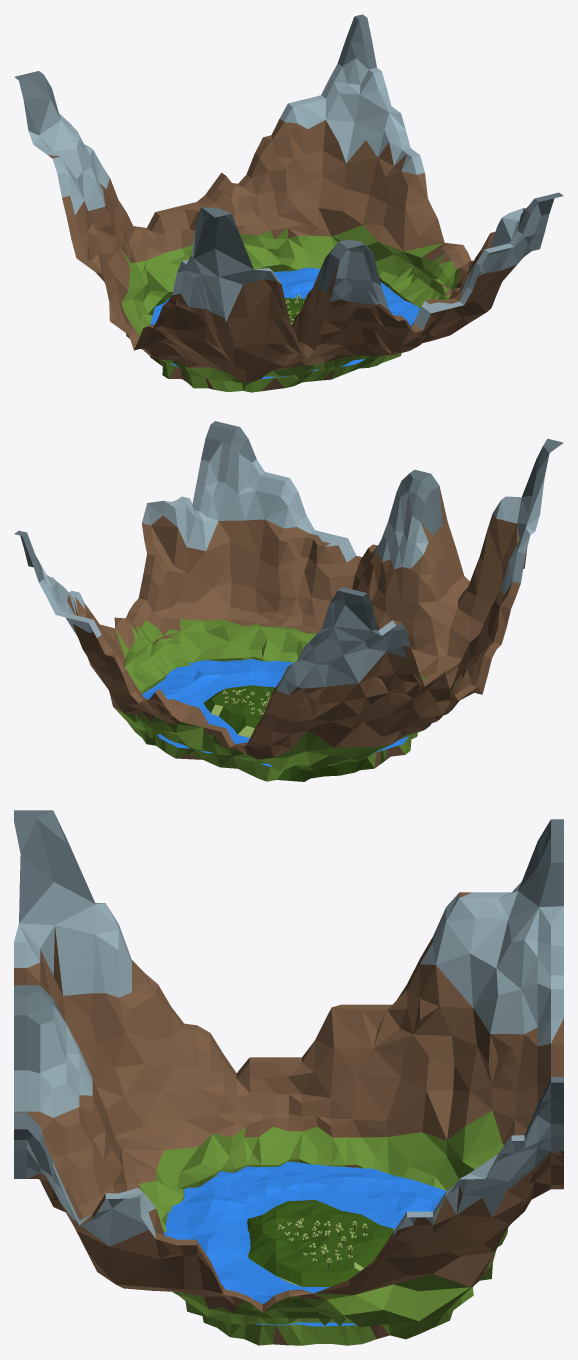
The model's file is HILL2.glb.
The picture shows the model from 3 angles, top to bottom: view 1: azimuth 30°, elevation 25°; view 2: azimuth 150°, elevation 25°; view 3: azimuth 270°, elevation 25°; orthographic projection. The views are drawn at different scales.
Parts seen in each view (by area): view 1: Plane_0, Plane.001_1; view 2: Plane_0, Plane.001_1; view 3: Plane_0, Plane.001_1.
Part boxes in pixels (x1,y1,x2,y2): Plane_0: [14, 14, 563, 392]; Plane.001_1: [150, 267, 419, 379]; Plane_0: [14, 421, 563, 781]; Plane.001_1: [142, 659, 408, 766]; Plane_0: [14, 810, 563, 1345]; Plane.001_1: [164, 1161, 446, 1326].
Bounding box in the file's own units: 13.44 × 8.59 × 12.65.
Materials: 3 (3 with a texture image).
